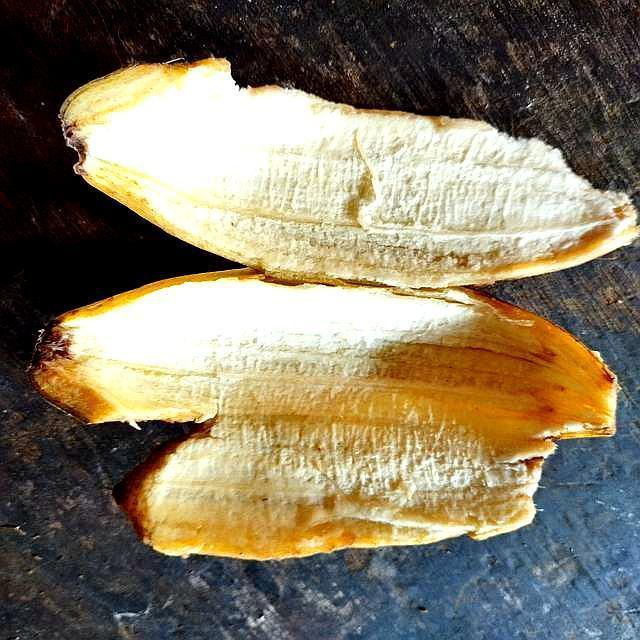Biodegradable: (31, 285, 615, 547), (55, 61, 635, 285)
